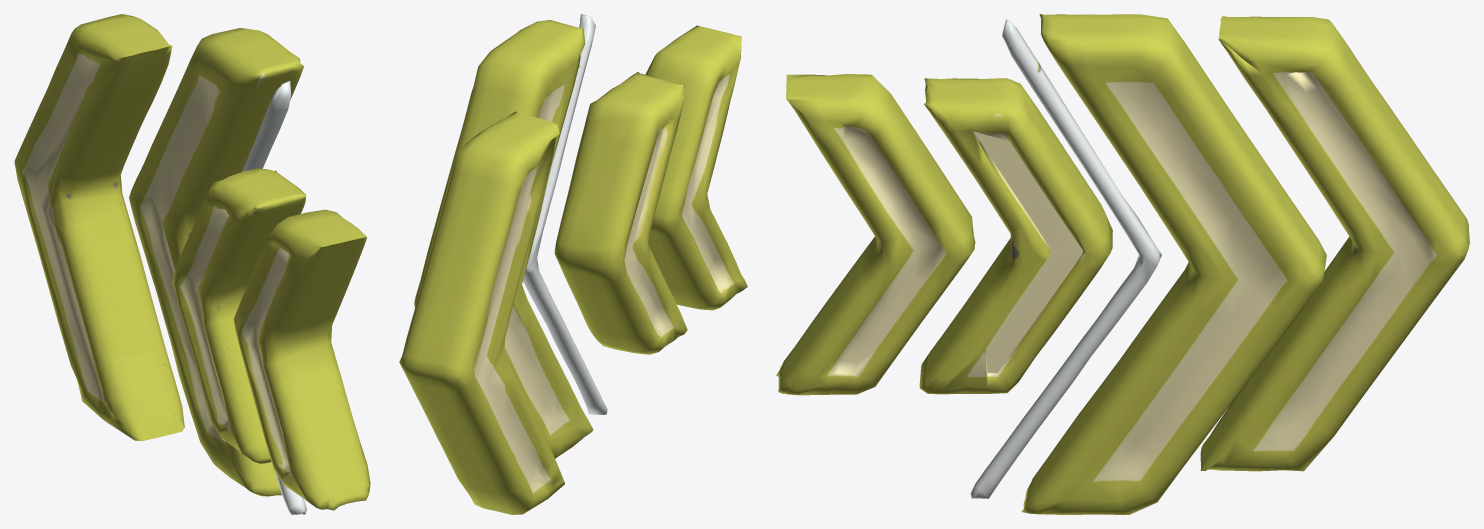
Rendered from arrow+chevron+3d+model.fbx.
3 renders of one model, left to right at view 1: azimuth 30°, elevation 25°; view 2: azimuth 150°, elevation 25°; view 3: azimuth 270°, elevation 25°, orthographic. The views are drawn at different scales.
Parts seen in each view (by area): view 1: tripo_node_9d736074; view 2: tripo_node_9d736074; view 3: tripo_node_9d736074.
Part boxes in pixels (x1=…): tripo_node_9d736074: x1=14, y1=14, x2=370, y2=514; tripo_node_9d736074: x1=399, y1=14, x2=747, y2=514; tripo_node_9d736074: x1=776, y1=14, x2=1469, y2=514.
Size of the model in its own units: 21.99 by 75.78 by 99.58.
Materials: 1 (1 with a texture image).
